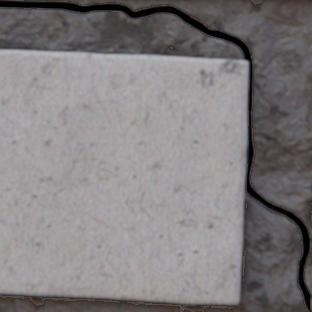brick: (0, 50, 247, 303)
crack: (0, 0, 311, 311)
